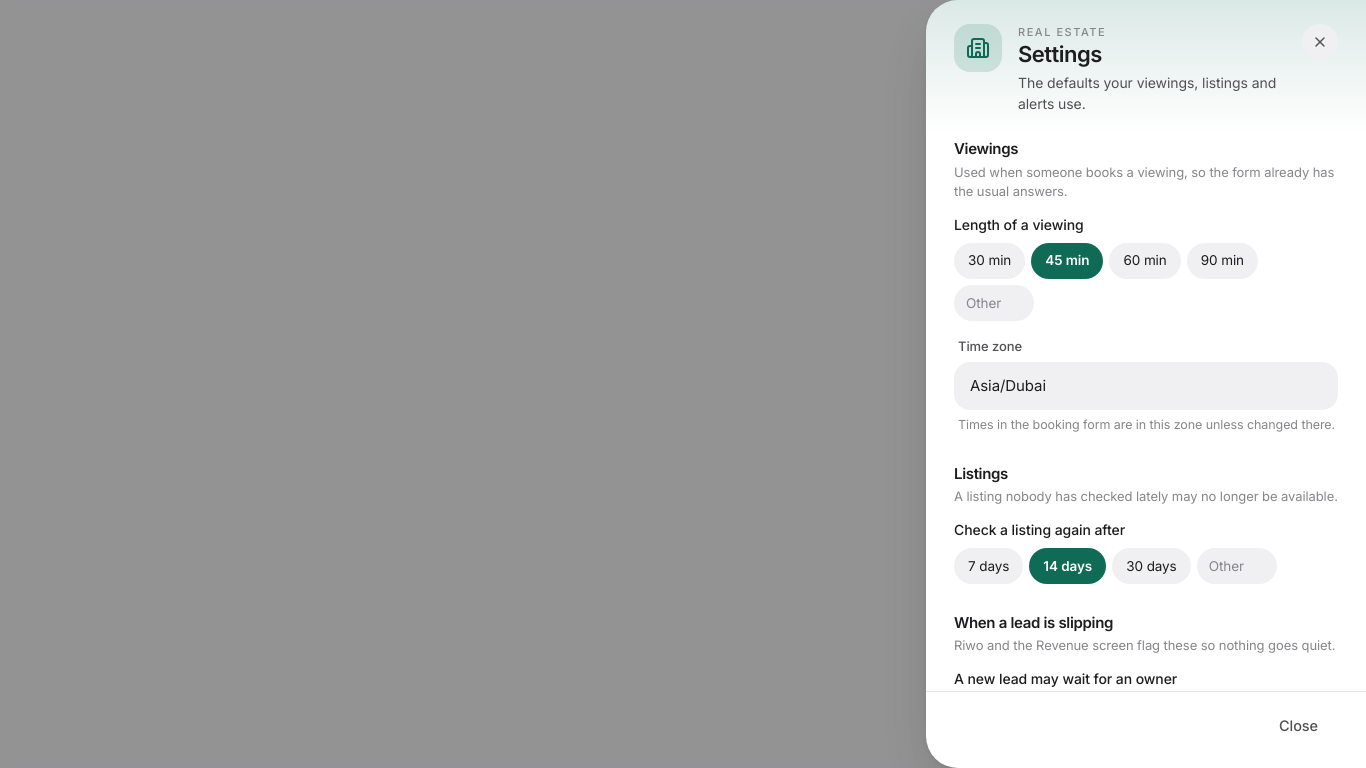
Scenario: Real estate settings panel › shows the refusal when the server says no
Click the button "30 min".
click(990, 260)  # box 954,242 -> 1025,278
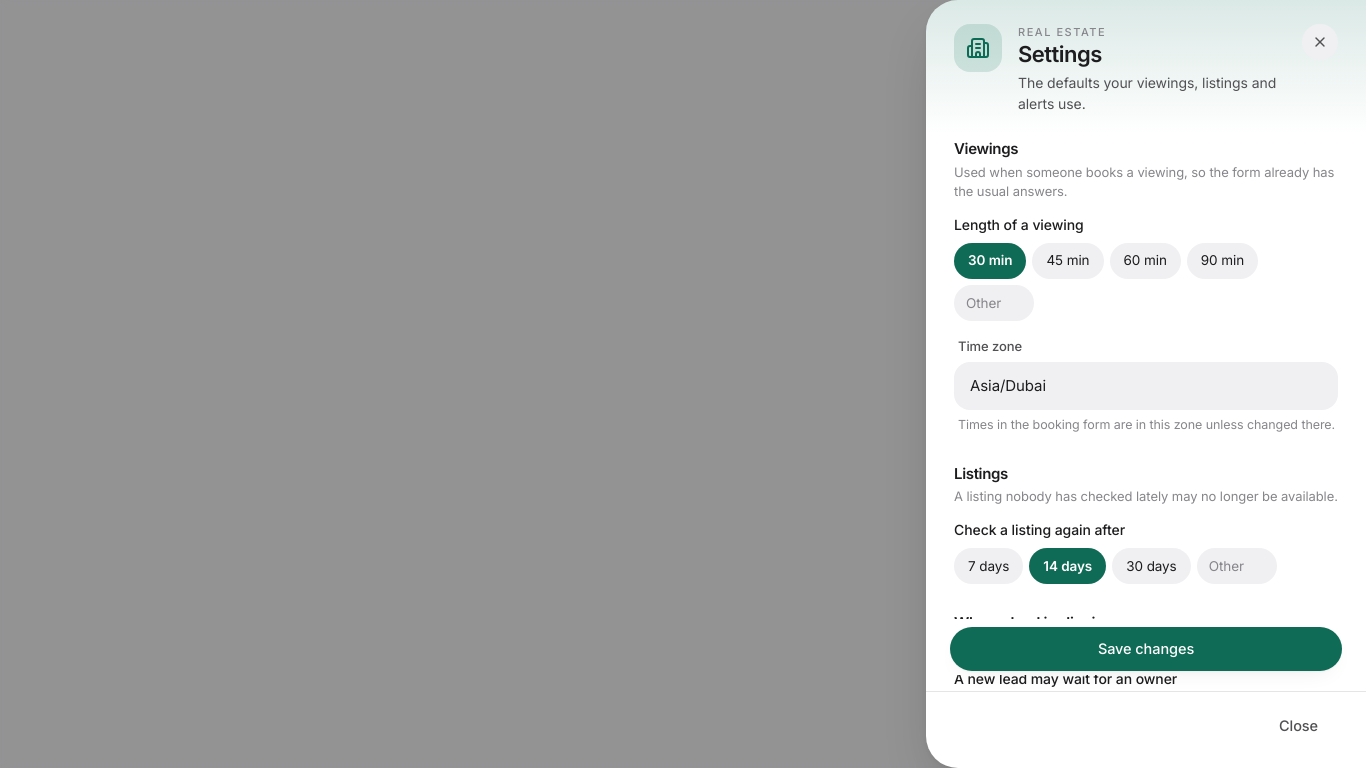
Click the button "Save changes".
click(1146, 649)  # box 950,627 -> 1342,671
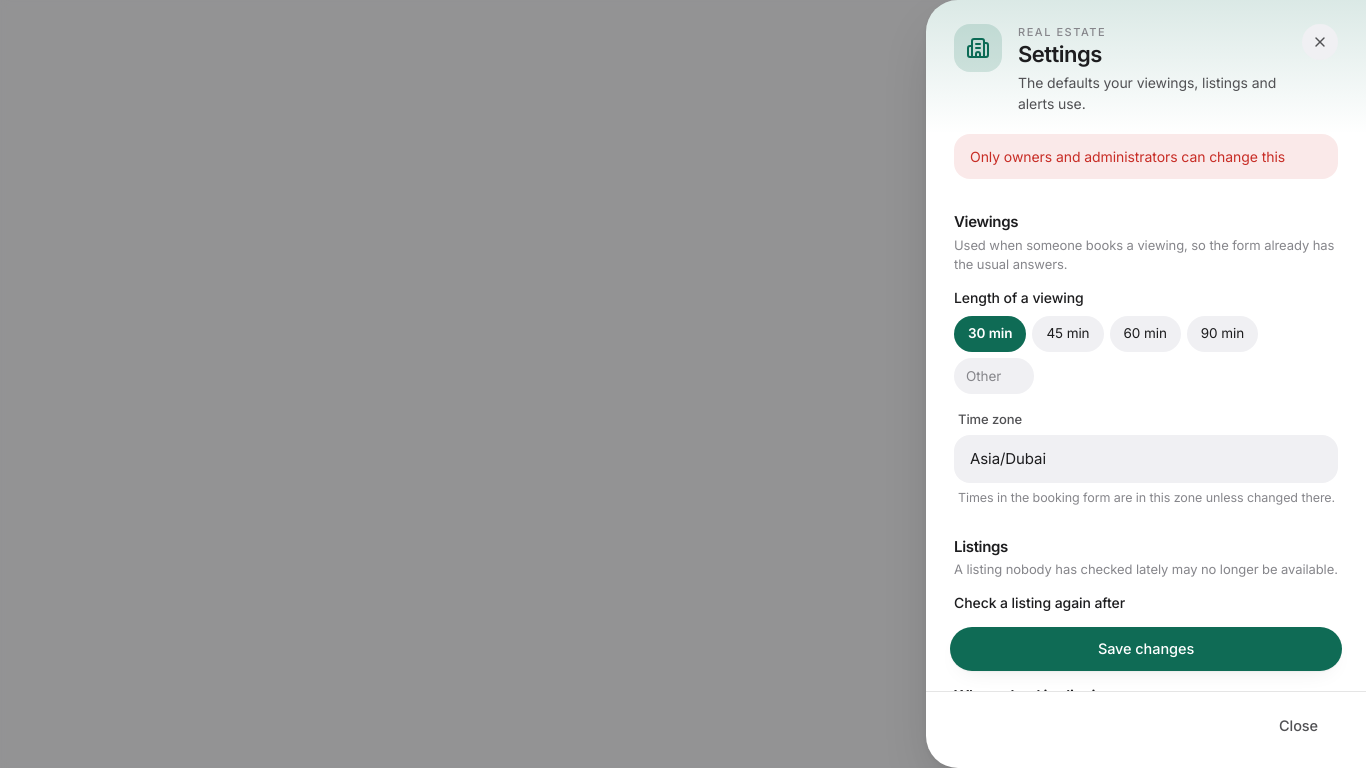
Now the text "Only owners and administrators can change this" is shown, box 954,134 -> 1338,179
